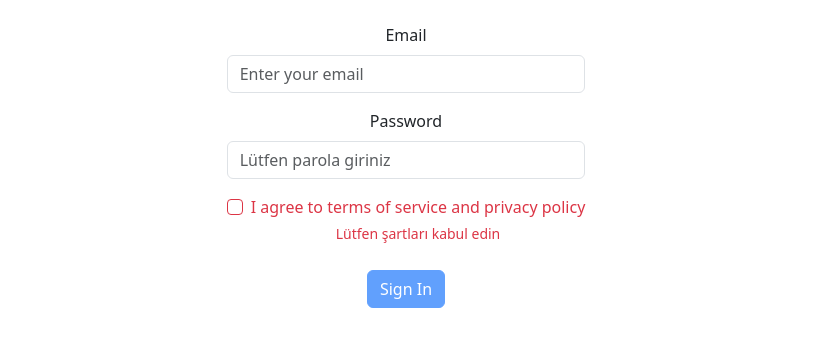
Test: Login page › Success Test › Error Messages › password hata mesajı
This screenshot has width=813, height=337.
Type "123123" into the password field with test id "password-input".
click(407, 160); type("123123")  # box [227,141,586,179]
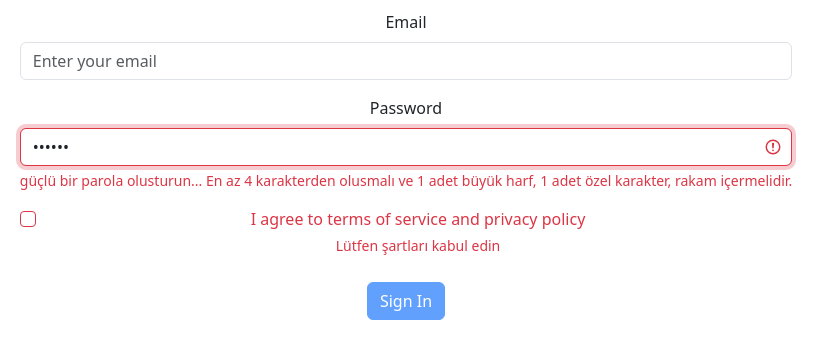
Expected: the button with test id "submit-button" is disabled, [367,282,445,320]
Now the text "güçlü bir parola olusturun... En az 4 karakterden olusmalı ve 1 adet büyük harf, 1 adet özel karakter, rakam içermelidir" is shown, box [20,171,792,190]
